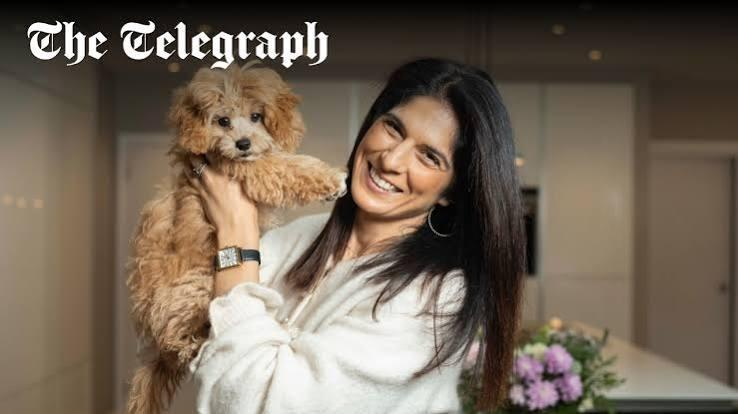puppy-dog: (120, 65, 350, 414)
